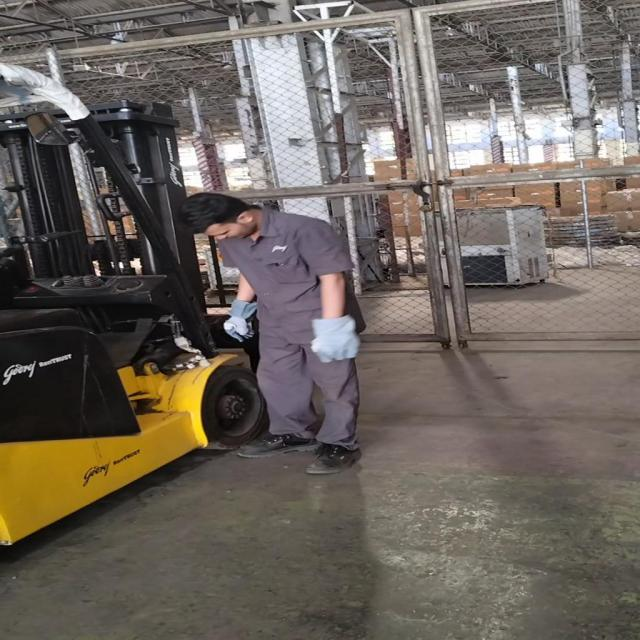Gloves-Detection: (313, 318, 357, 365), (222, 298, 252, 344)
